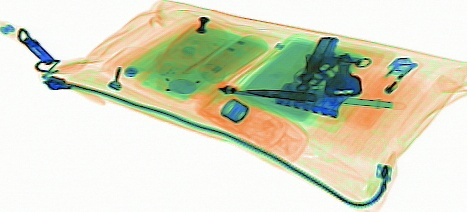lighter: (342, 54, 421, 134)
